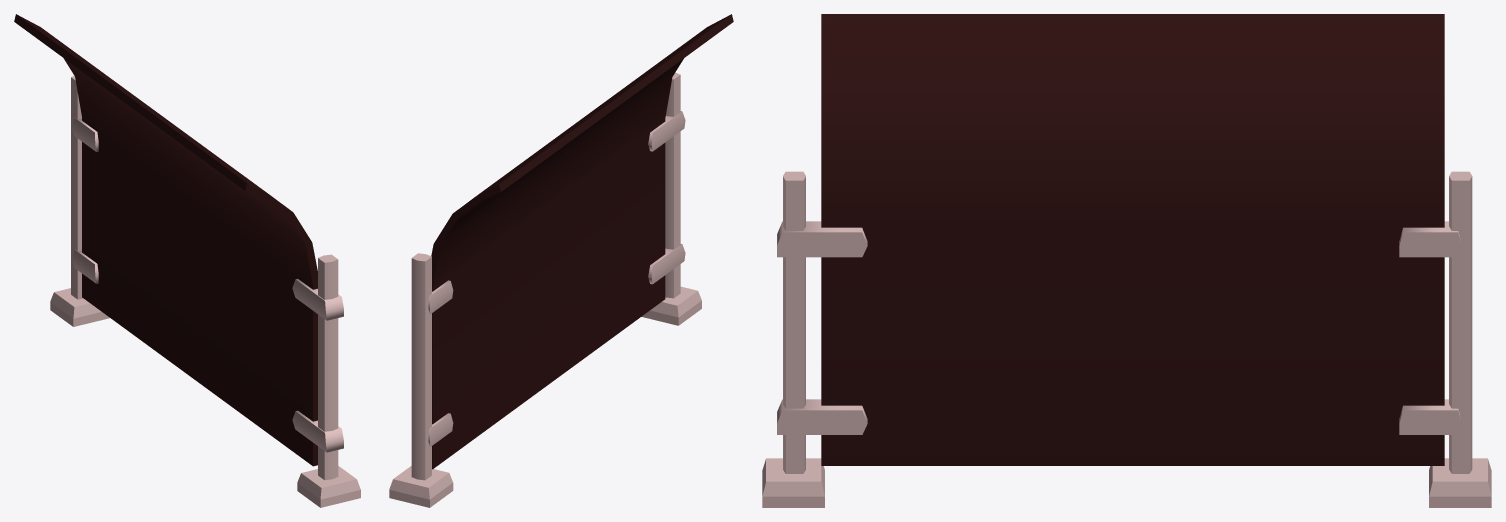
File: Module_Ss_asset_bar2.FBX
3 renders of one model, left to right at view 1: azimuth 30°, elevation 25°; view 2: azimuth 150°, elevation 25°; view 3: azimuth 270°, elevation 25°, orthographic. The views are drawn at different scales.
Visible parts, largest first — view 1: Module_Ss_asset_bar2; view 2: Module_Ss_asset_bar2; view 3: Module_Ss_asset_bar2.
Boxes of the visible parts, x1,y1,x2,y2 form: Module_Ss_asset_bar2: (14, 14, 360, 507); Module_Ss_asset_bar2: (389, 14, 733, 507); Module_Ss_asset_bar2: (762, 14, 1491, 507).
Bounding box in the file's own units: 6.39 × 20.93 × 31.9.
